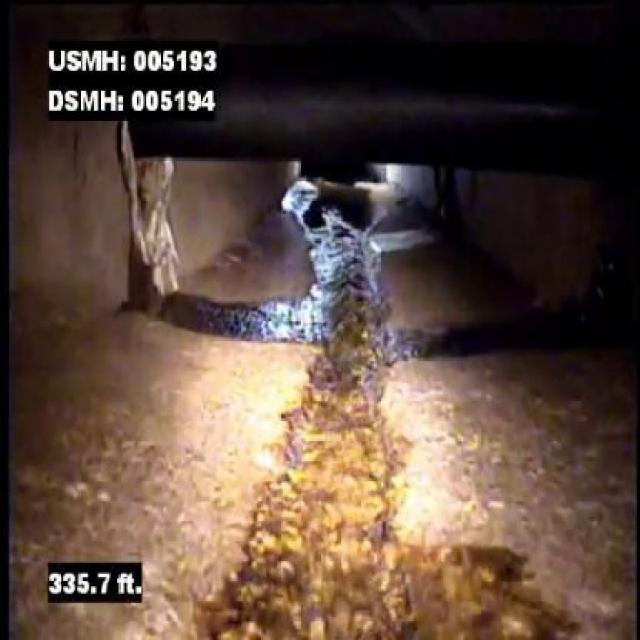Utility intrusion: (224, 9, 634, 177)
